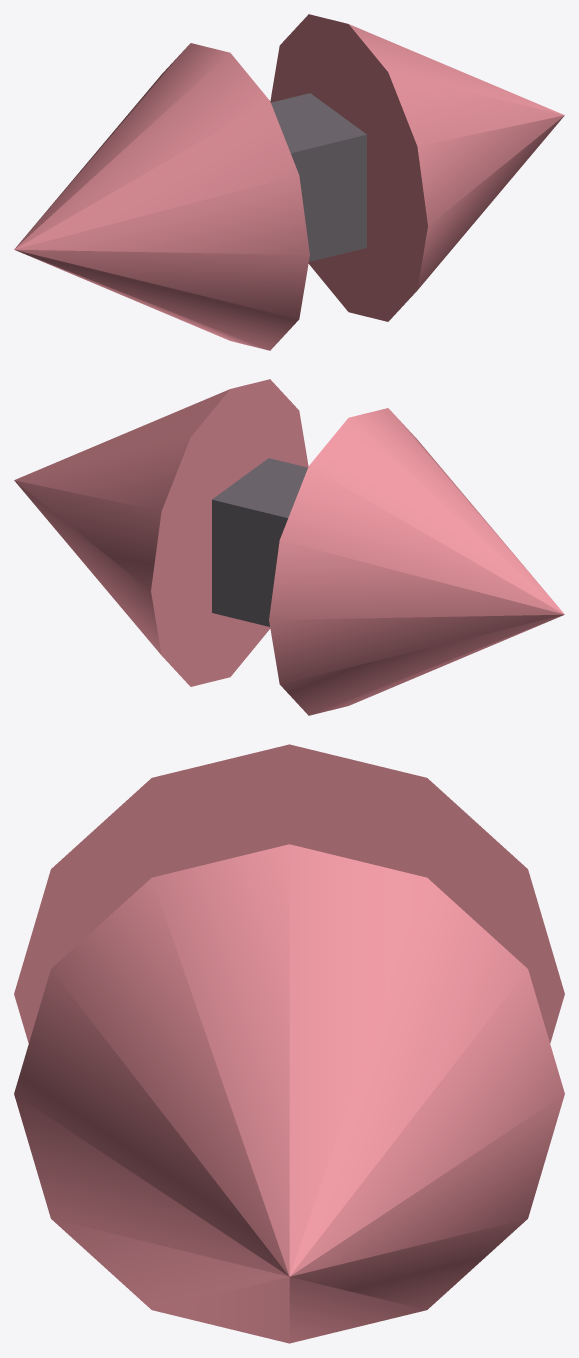
The model's file is bow_tie.glb.
The picture shows the model from 3 angles, top to bottom: view 1: azimuth 30°, elevation 25°; view 2: azimuth 150°, elevation 25°; view 3: azimuth 270°, elevation 25°; orthographic projection. The views are drawn at different scales.
Parts seen in each view (by area): view 1: Bow Tie; view 2: Bow Tie; view 3: Bow Tie.
Boxes of the visible parts, left/top/right/bottom form: Bow Tie: left=14, top=14, right=564, bottom=350; Bow Tie: left=14, top=379, right=564, bottom=715; Bow Tie: left=14, top=744, right=564, bottom=1343.
Bounding box in the file's own units: 0.28 × 0.14 × 0.14.
